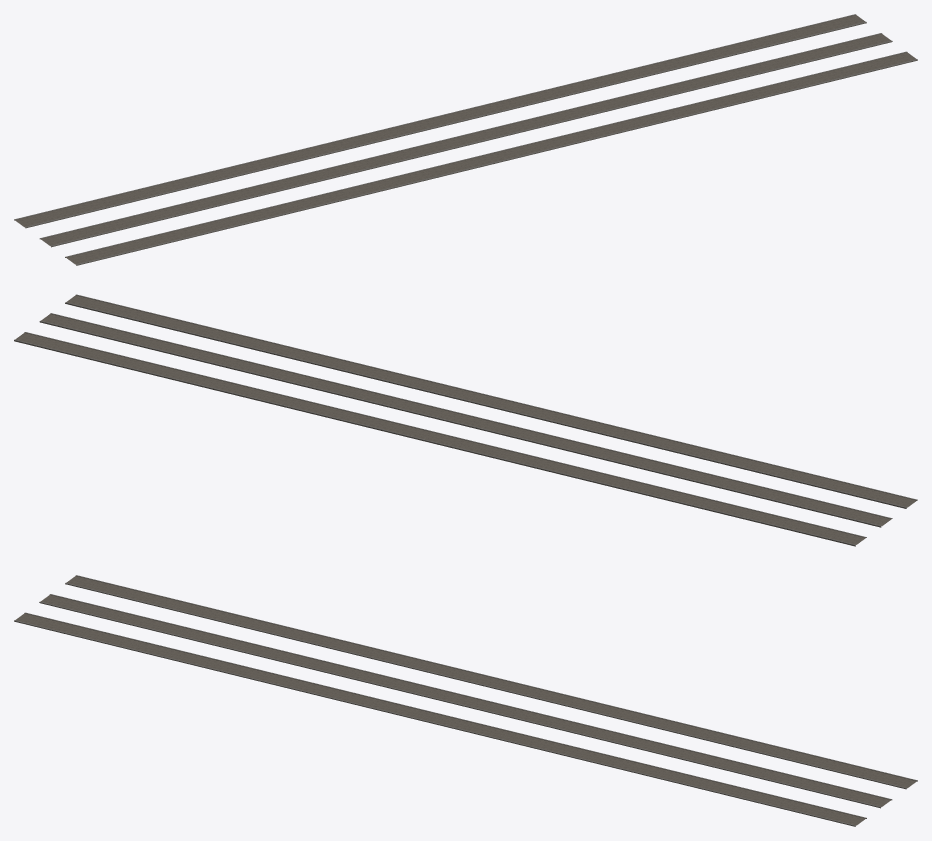
File: Road1c.fbx
The picture shows the model from 3 angles, top to bottom: view 1: azimuth 30°, elevation 25°; view 2: azimuth 150°, elevation 25°; view 3: azimuth 330°, elevation 25°; orthographic projection.
Parts seen in each view (by area): view 1: Road1c; view 2: Road1c; view 3: Road1c.
Part boxes in pixels (box(x1,y1,x2,y2)): Road1c: box(14, 14, 917, 265); Road1c: box(14, 294, 917, 546); Road1c: box(14, 575, 917, 826).
Size of the model in its own units: 29861 by 3836 by 41.9.
